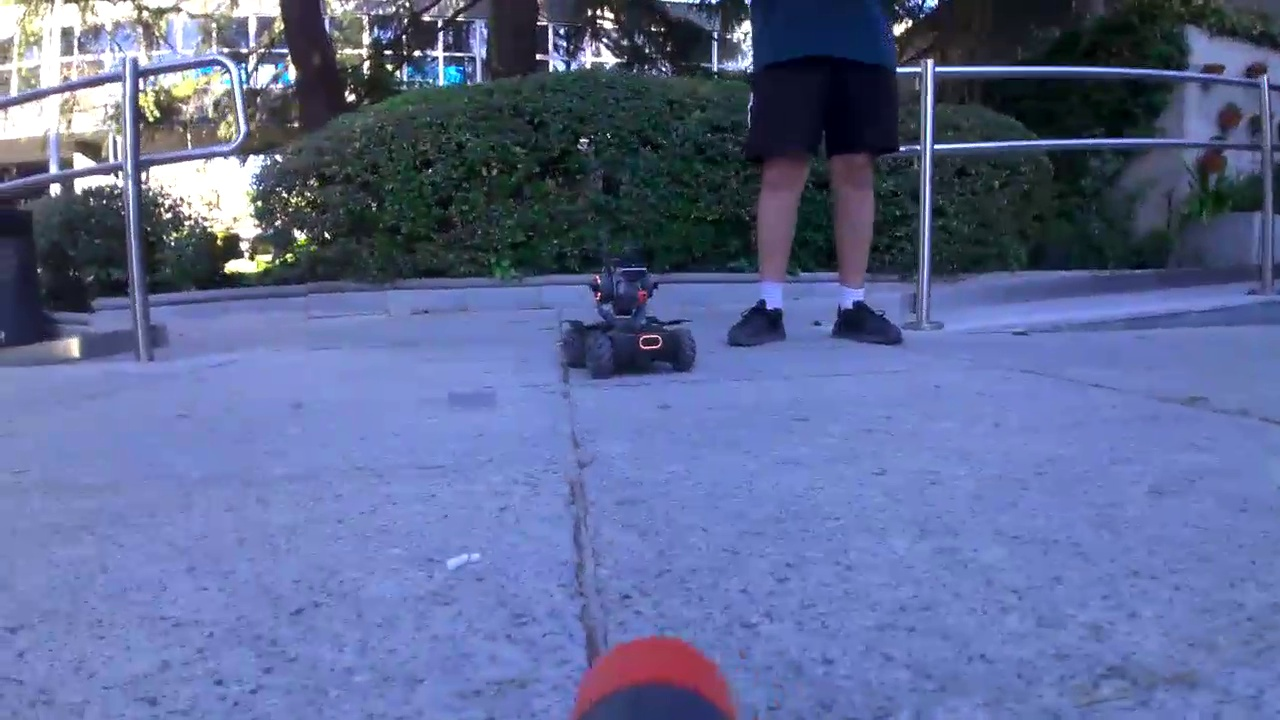robot: (561, 257, 698, 379)
